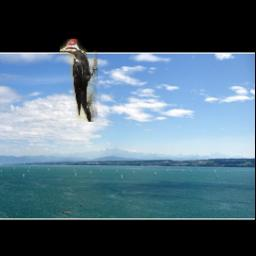Woodpecker: (60, 39, 98, 122)
